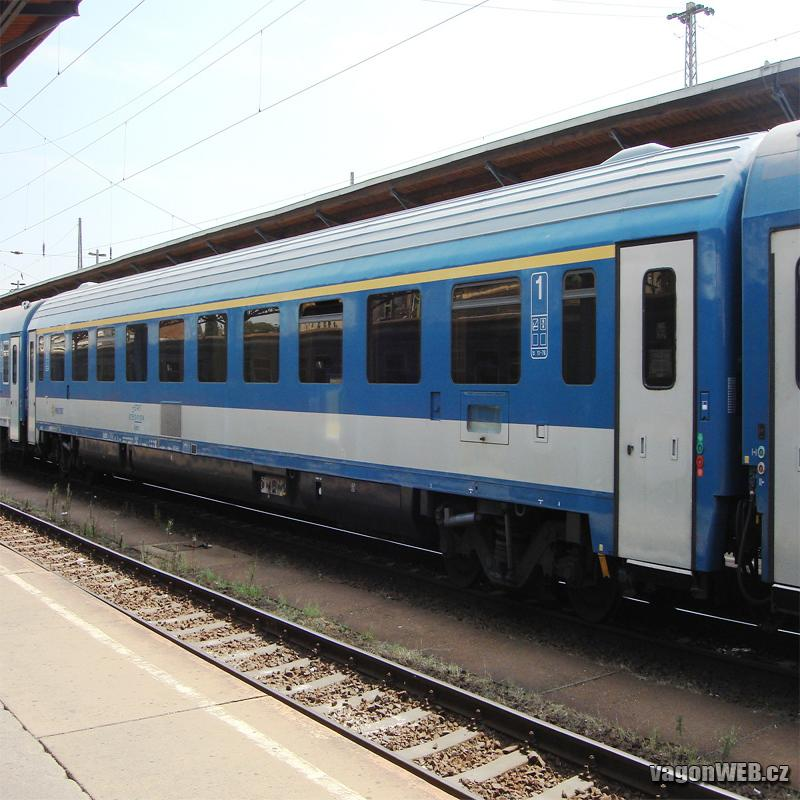train: (25, 134, 760, 659)
